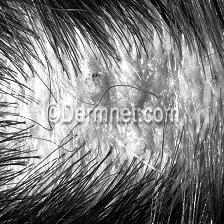Benign Marking or Mole: (28, 73, 173, 105)
